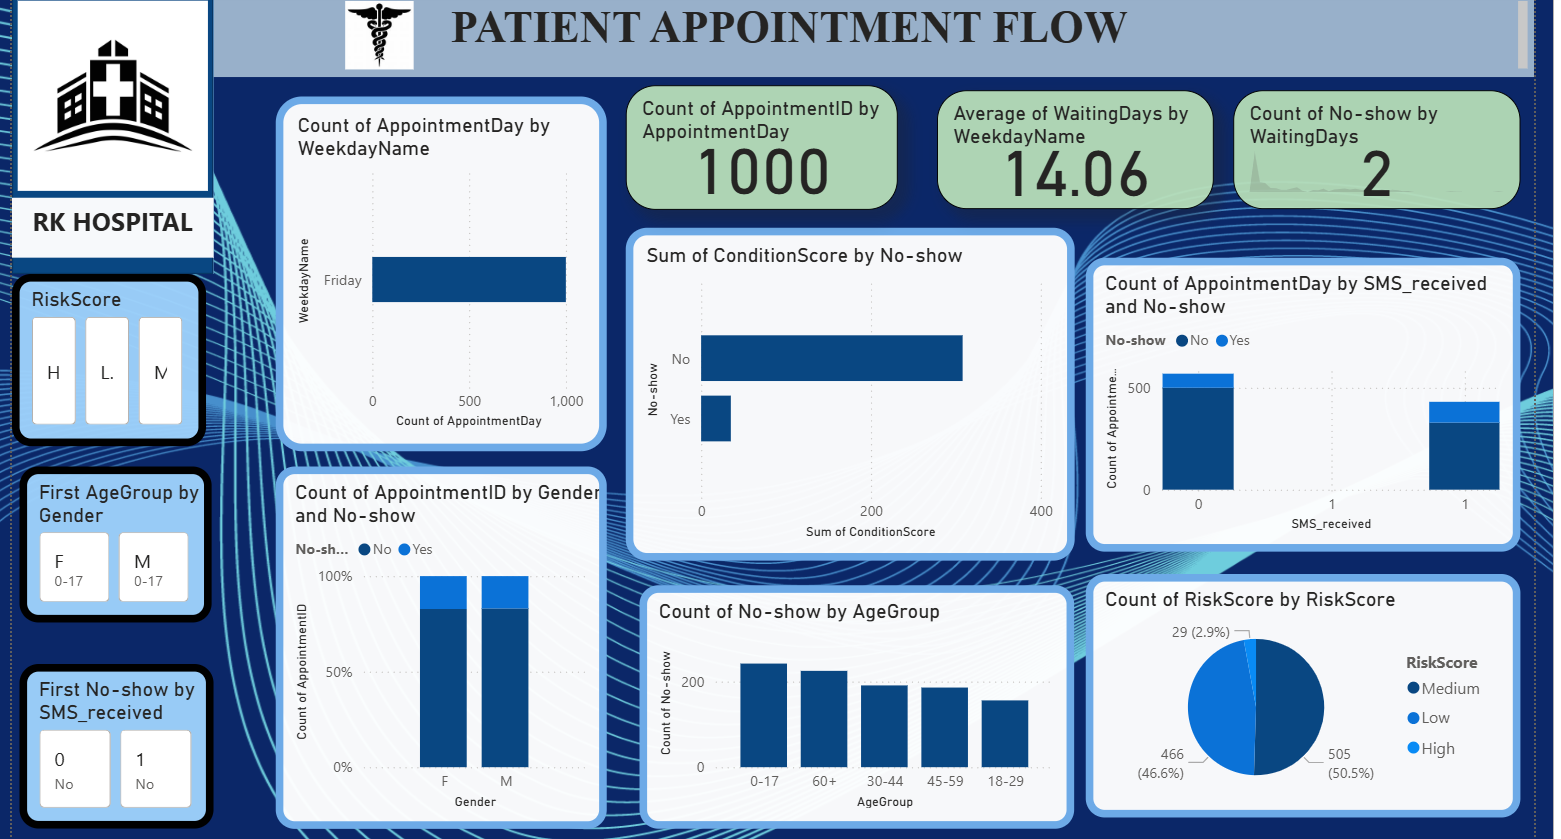

What the dashboard file says about the page in this screenshot:
{"tool":"powerbi","page":{"name":"Page 1","canvas":[1280,720],"ordinal":0},"visuals":[{"type":"clusteredBarChart","fields":{"Category":["Medical appointment.WeekdayName"],"Y":["CountNonNull(Medical appointment.AppointmentDay)"]},"box":[221.8,86.2,278.6,298.6],"z":0},{"type":"barChart","fields":{"Category":["Medical appointment.No-show"],"Y":["Sum(Medical appointment.ConditionScore)"]},"box":[516.2,196.6,377.5,279.7],"z":1000},{"type":"clusteredColumnChart","fields":{"Category":["Medical appointment.AgeGroup"],"Y":["CountNonNull(Medical appointment.No-show)"]},"box":[527.8,497.3,365.9,205],"z":2000},{"type":"hundredPercentStackedColumnChart","fields":{"Category":["Medical appointment.Gender"],"Series":["Medical appointment.No-show"],"Y":["CountNonNull(Medical appointment.AppointmentID)"]},"box":[221.8,397.4,278.6,304.9],"z":3000},{"type":"columnChart","fields":{"Category":["Medical appointment.SMS_received"],"Series":["Medical appointment.No-show"],"Y":["CountNonNull(Medical appointment.AppointmentDay)"]},"box":[903.2,221.8,365.9,247.1],"z":4000},{"type":"pieChart","fields":{"Category":["Medical appointment.RiskScore"],"Y":["CountNonNull(Medical appointment.RiskScore)"]},"box":[903.2,487.9,365.9,205],"z":5000},{"type":"advancedSlicerVisual","fields":{"Values":["Medical appointment.Gender"],"Label":["Min(Medical appointment.AgeGroup)"]},"box":[6.3,397.4,161.9,131.4],"z":6000},{"type":"advancedSlicerVisual","fields":{"Values":["Medical appointment.SMS_received"],"Label":["Min(Medical appointment.No-show)"]},"box":[6.3,563.6,163,138.8],"z":7000},{"type":"advancedSlicerVisual","fields":{"Values":["Medical appointment.RiskScore"]},"box":[0,235.5,163,145.1],"z":8000},{"type":"kpi","fields":{"Indicator":["CountNonNull(Medical appointment.AppointmentID)"],"TrendLine":["Medical appointment.AppointmentDay"]},"box":[516.3,76.7,229.1,104.7],"z":9000},{"type":"kpi","fields":{"Indicator":["Avg(Medical appointment.WaitingDays)"],"TrendLine":["Medical appointment.WeekdayName"]},"box":[777.9,81.4,232.6,100],"z":10000},{"type":"kpi","fields":{"Indicator":["CountNonNull(Medical appointment.No-show)"],"TrendLine":["Medical appointment.WaitingDays"]},"box":[1026.7,81.4,241.9,100],"z":11000},{"type":"textbox","box":[45.3,1.2,1234.9,68.6],"z":12000},{"type":"image","box":[222.1,1.2,174.4,67.4],"z":13000},{"type":"shape","box":[0,1.1,169.3,234.5],"z":14000},{"type":"image","box":[0,0,169.8,170.9],"z":15000},{"type":"textbox","box":[0,171.4,169.3,50.5],"z":16000}]}

Visuals, with their boxes in screenshot pixels (x1, y1, x2, y2):
clusteredBarChart - Medical appointment.WeekdayName x CountNonNull(Medical appointment.AppointmentDay): [x1=272, y1=94, x2=603, y2=449]
barChart - Medical appointment.No-show x Sum(Medical appointment.ConditionScore): [x1=622, y1=226, x2=1071, y2=558]
clusteredColumnChart - Medical appointment.AgeGroup x CountNonNull(Medical appointment.No-show): [x1=636, y1=583, x2=1071, y2=827]
hundredPercentStackedColumnChart - Medical appointment.Gender x Medical appointment.No-show: [x1=272, y1=464, x2=603, y2=827]
columnChart - Medical appointment.SMS_received x Medical appointment.No-show: [x1=1082, y1=256, x2=1517, y2=549]
pieChart - Medical appointment.RiskScore x CountNonNull(Medical appointment.RiskScore): [x1=1082, y1=572, x2=1517, y2=816]
advancedSlicerVisual - Medical appointment.Gender x Min(Medical appointment.AgeGroup): [x1=16, y1=464, x2=208, y2=621]
advancedSlicerVisual - Medical appointment.SMS_received x Min(Medical appointment.No-show): [x1=16, y1=662, x2=209, y2=827]
advancedSlicerVisual - Medical appointment.RiskScore: [x1=8, y1=272, x2=202, y2=444]
kpi - CountNonNull(Medical appointment.AppointmentID) x Medical appointment.AppointmentDay: [x1=622, y1=83, x2=895, y2=208]
kpi - Avg(Medical appointment.WaitingDays) x Medical appointment.WeekdayName: [x1=933, y1=89, x2=1210, y2=208]
kpi - CountNonNull(Medical appointment.No-show) x Medical appointment.WaitingDays: [x1=1229, y1=89, x2=1517, y2=208]
textbox: [x1=62, y1=0, x2=1530, y2=75]
image: [x1=272, y1=0, x2=480, y2=73]
shape: [x1=8, y1=0, x2=209, y2=272]
image: [x1=8, y1=0, x2=210, y2=195]
textbox: [x1=8, y1=196, x2=209, y2=256]
